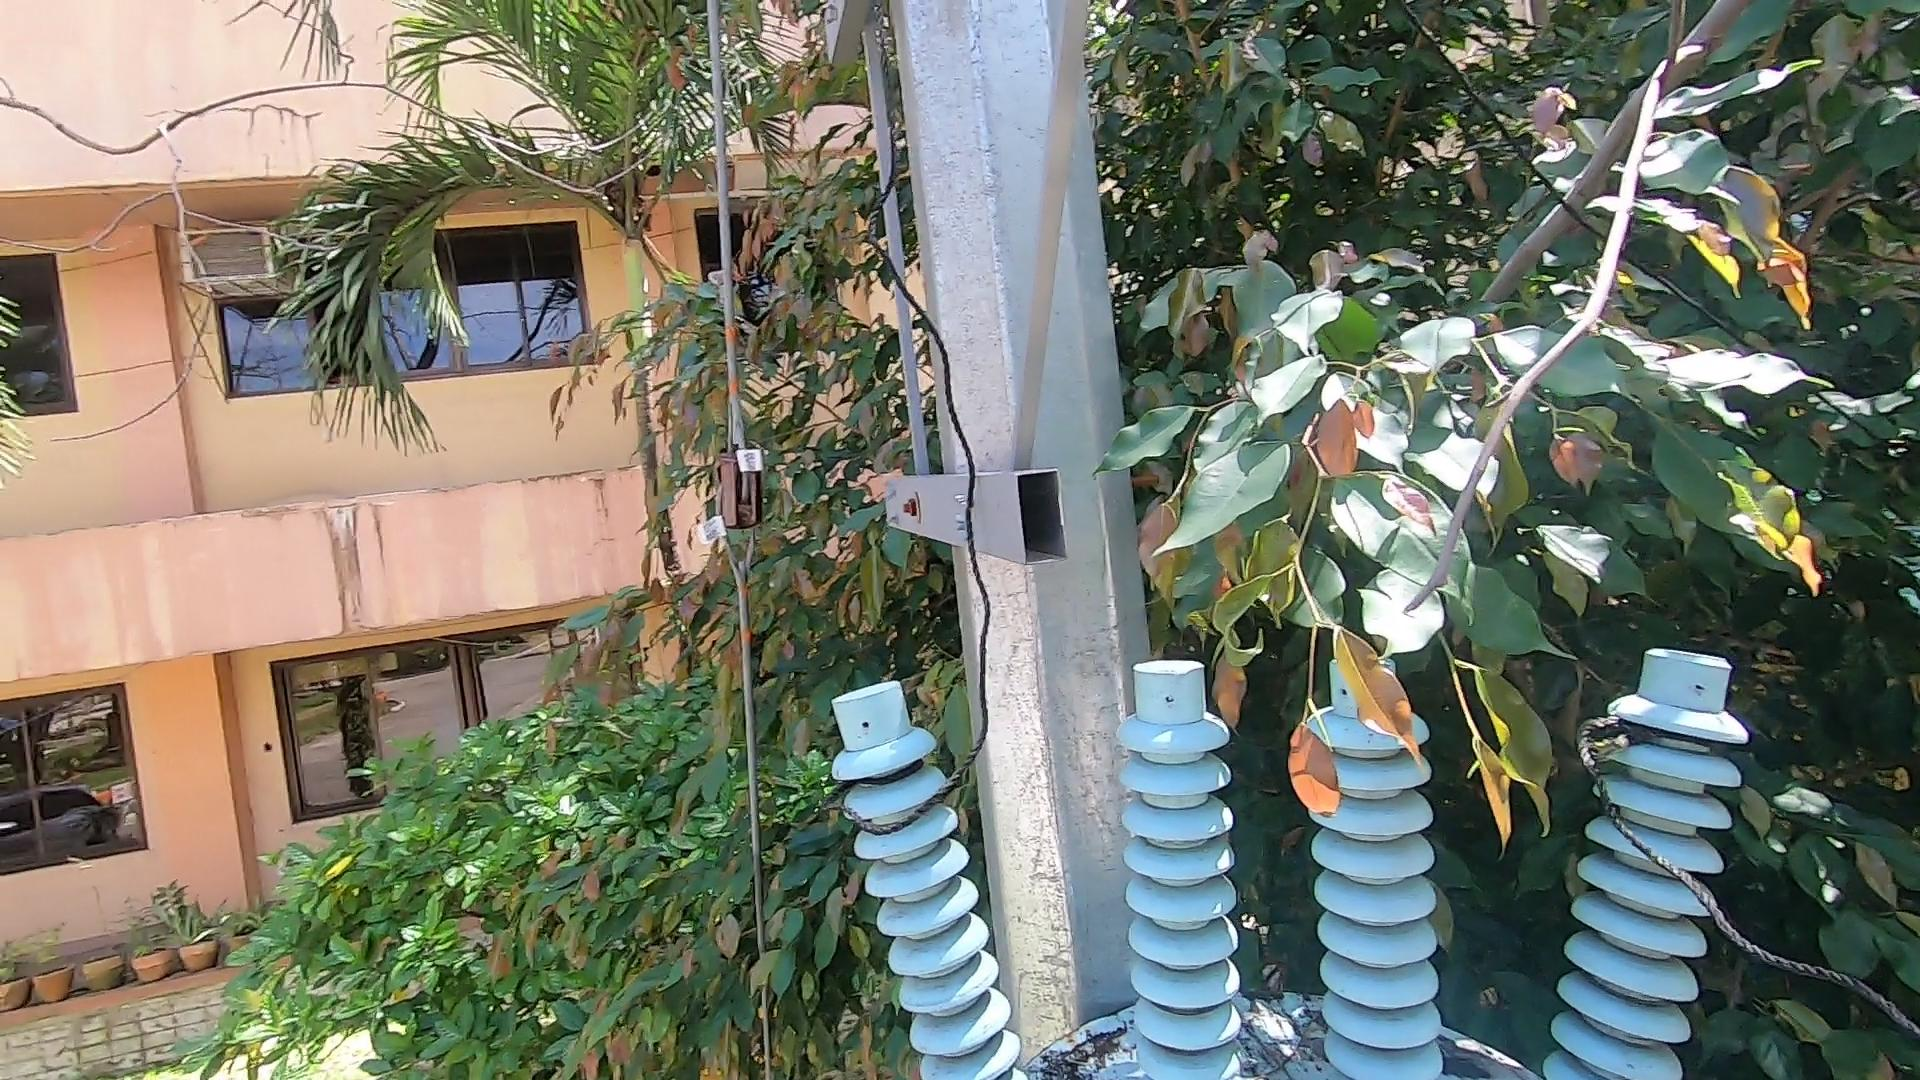tree branch: (1379, 1, 1799, 625)
